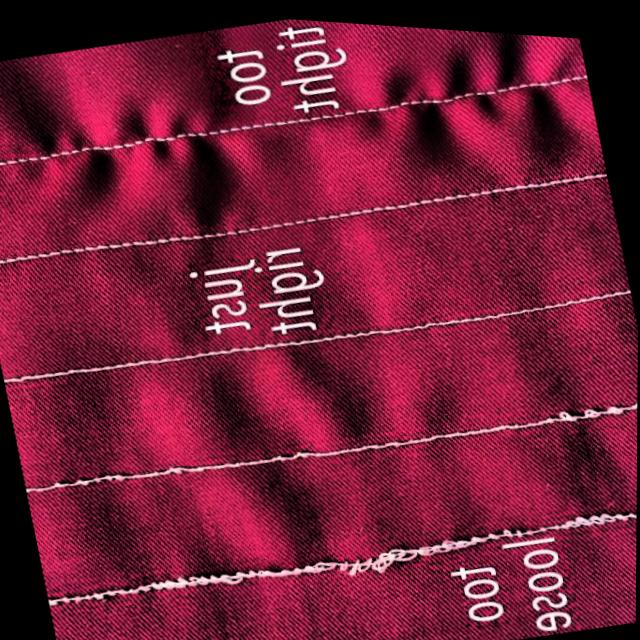Stitch: (228, 494, 423, 605), (538, 458, 637, 543), (554, 377, 636, 433)
